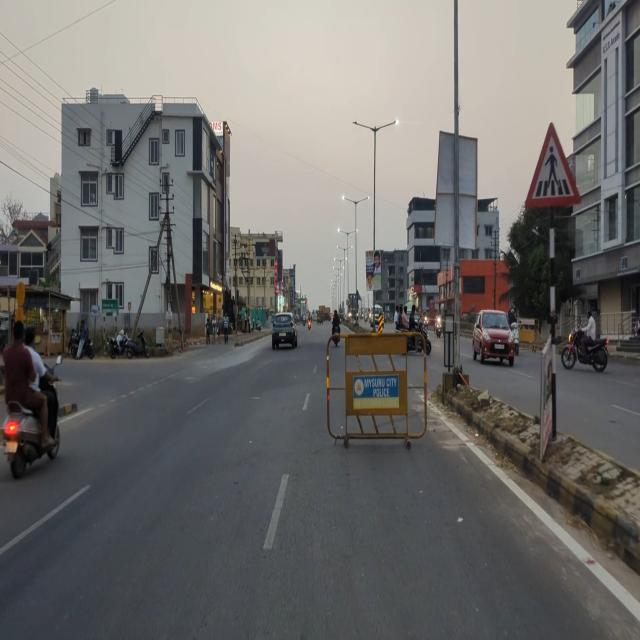bien_cam: (526, 119, 581, 212)
